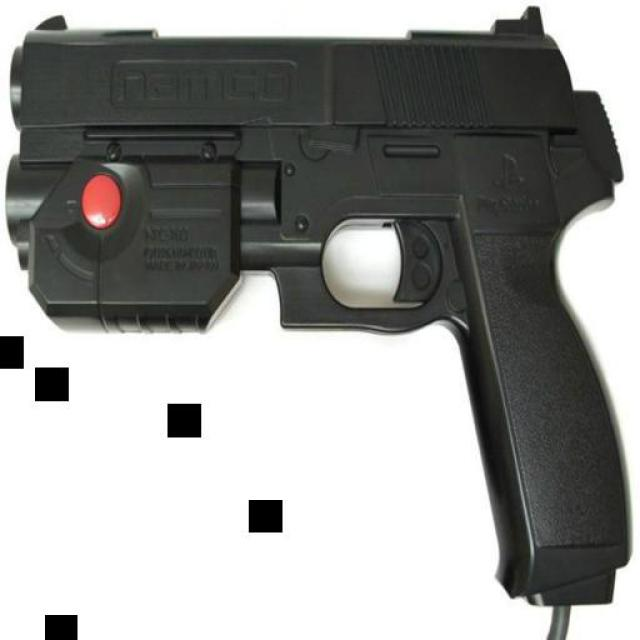gun: (10, 11, 630, 608)
